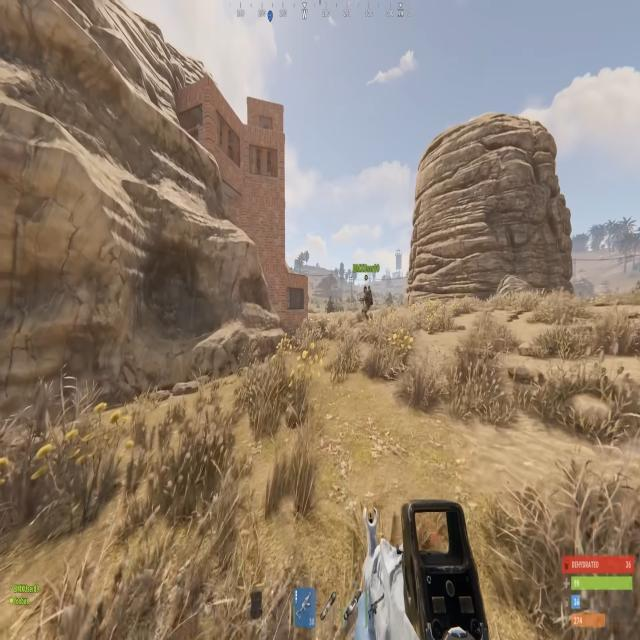Player: (358, 282, 374, 322)
